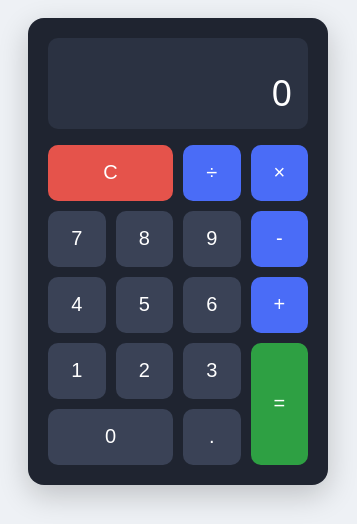
Test: Calculator UI › clicking "C" clears the display
The width and height of the screenshot is (357, 524).
Step 1. Click the button "5" → (144, 304), box [116,276,173,332]
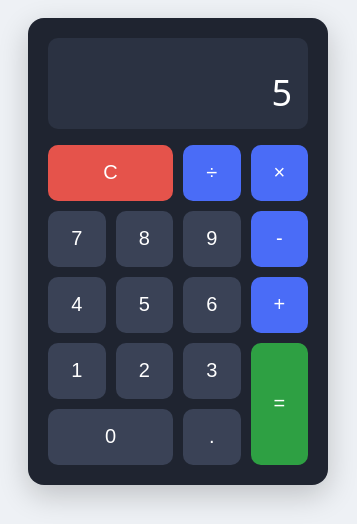
Step 2. Click the button "3" → (212, 370), box [183,342,240,398]
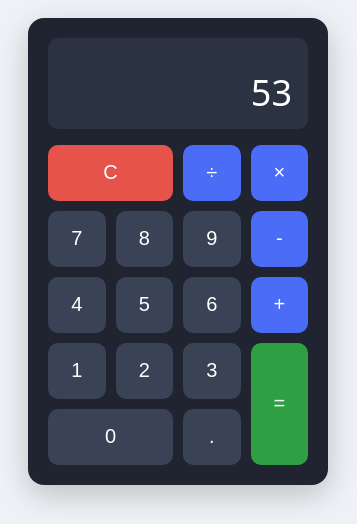
Expected: the text with test id "display" reads "53", [251,68,292,116]
Step 3. Click the button "C" → (110, 172), box [48,144,173,200]
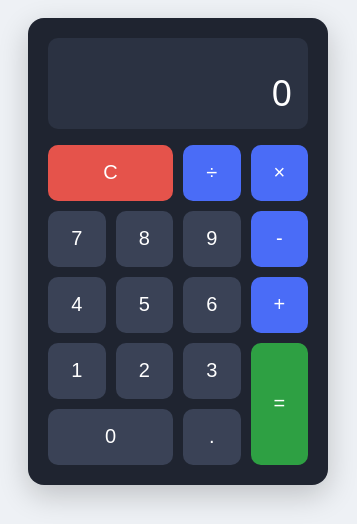
Expected: the text with test id "display" reads "0", [271,68,292,116]
